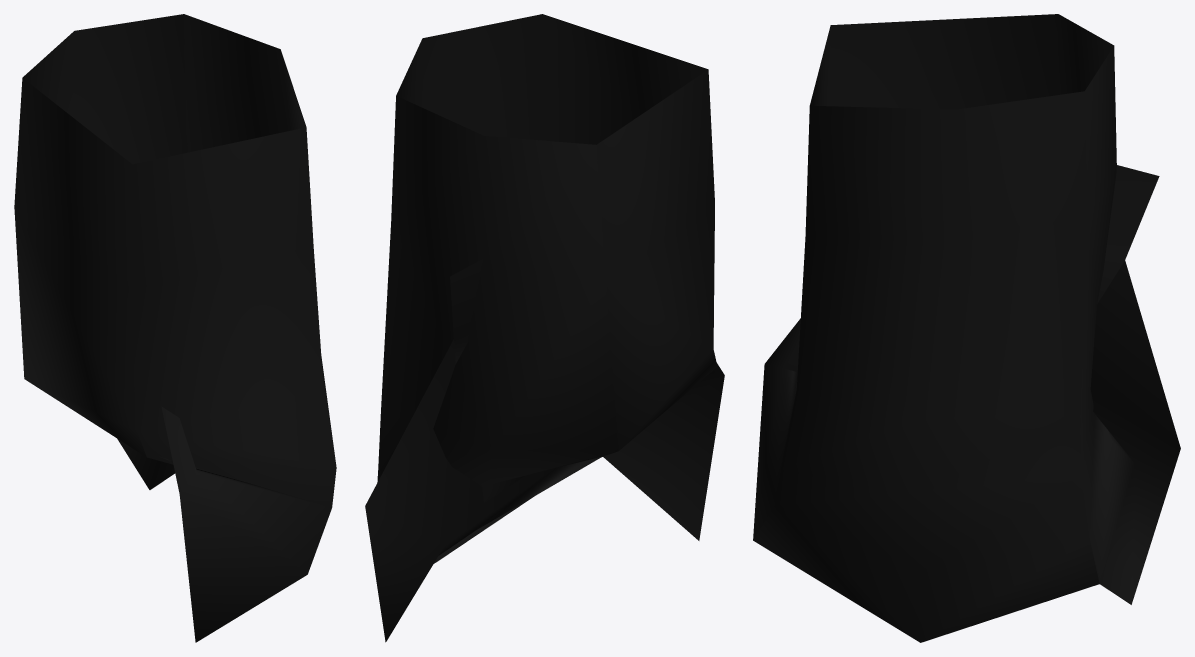
Rendered from left_arm.glb.
3 renders of one model, left to right at view 1: azimuth 30°, elevation 25°; view 2: azimuth 150°, elevation 25°; view 3: azimuth 270°, elevation 25°, orthographic. The views are drawn at different scales.
Parts seen in each view (by area): view 1: polo-black_LEFT_ARM; view 2: polo-black_LEFT_ARM; view 3: polo-black_LEFT_ARM.
Part boxes in pixels (bbox=[...]): polo-black_LEFT_ARM: bbox=[14, 14, 336, 642]; polo-black_LEFT_ARM: bbox=[365, 14, 724, 642]; polo-black_LEFT_ARM: bbox=[753, 14, 1180, 642].
Bounding box in the file's own units: 0.1307 × 0.252 × 0.1839.
Materials: 1 (1 with a texture image).
